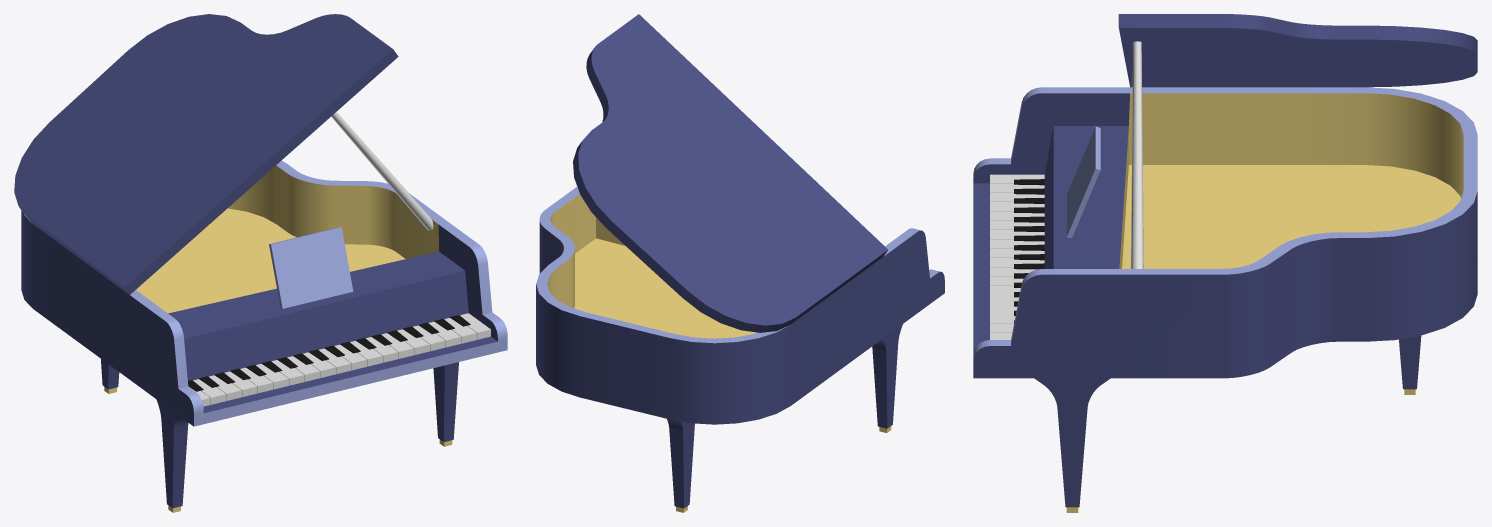
File: Piano.fbx
3 renders of one model, left to right at view 1: azimuth 30°, elevation 25°; view 2: azimuth 150°, elevation 25°; view 3: azimuth 270°, elevation 25°, orthographic. The views are drawn at different scales.
Parts seen in each view (by area): view 1: Piano; view 2: Piano; view 3: Piano.
Part boxes in pixels (x1,y1,x2,y2): Piano: (14,14,507,512); Piano: (536,14,944,512); Piano: (973,14,1477,512).
Size of the model in its own units: 0.1596 by 0.186 by 0.1784.
